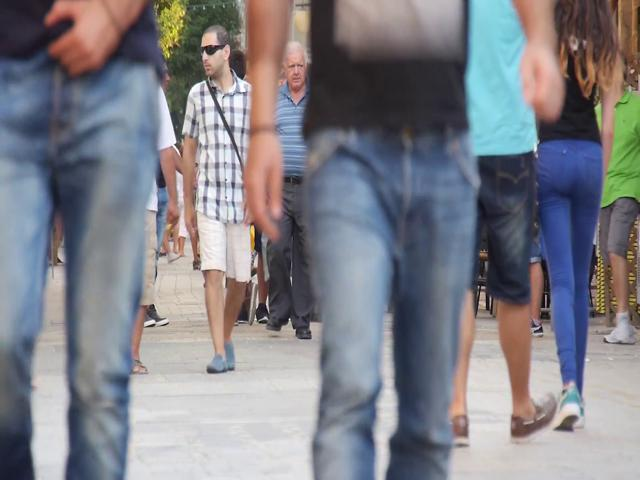shoe: (511, 391, 557, 443), (556, 384, 580, 431), (614, 321, 633, 344), (204, 356, 227, 372), (225, 340, 235, 370)
